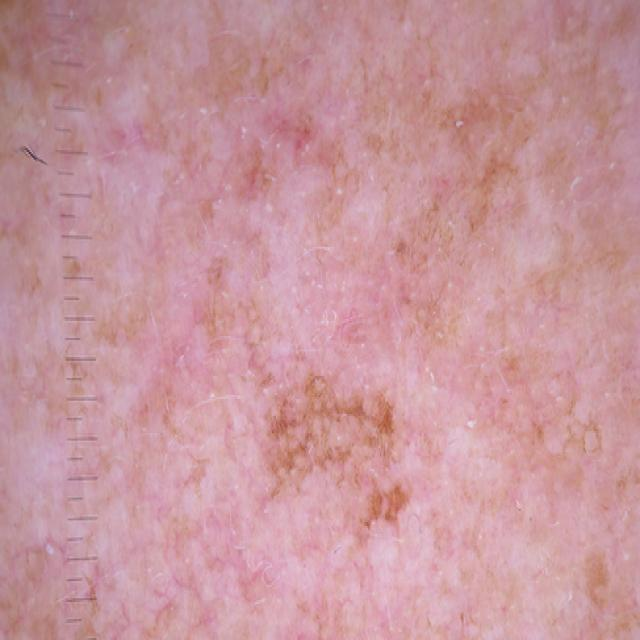Keratosis: (190, 250, 439, 614)
